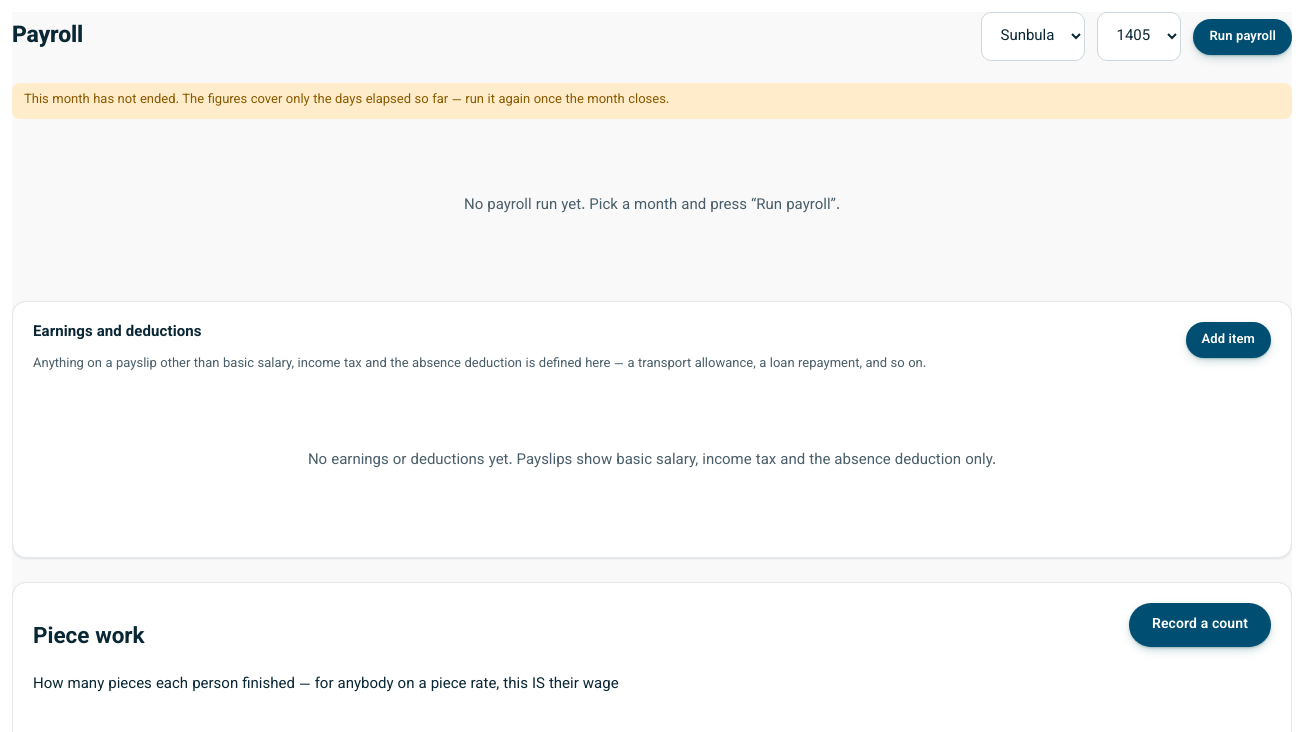
Test case: payroll runs › names the employees a run could not pay
Click the button "Run payroll": (1243, 36) x1=1194 y1=18 x2=1292 y2=54
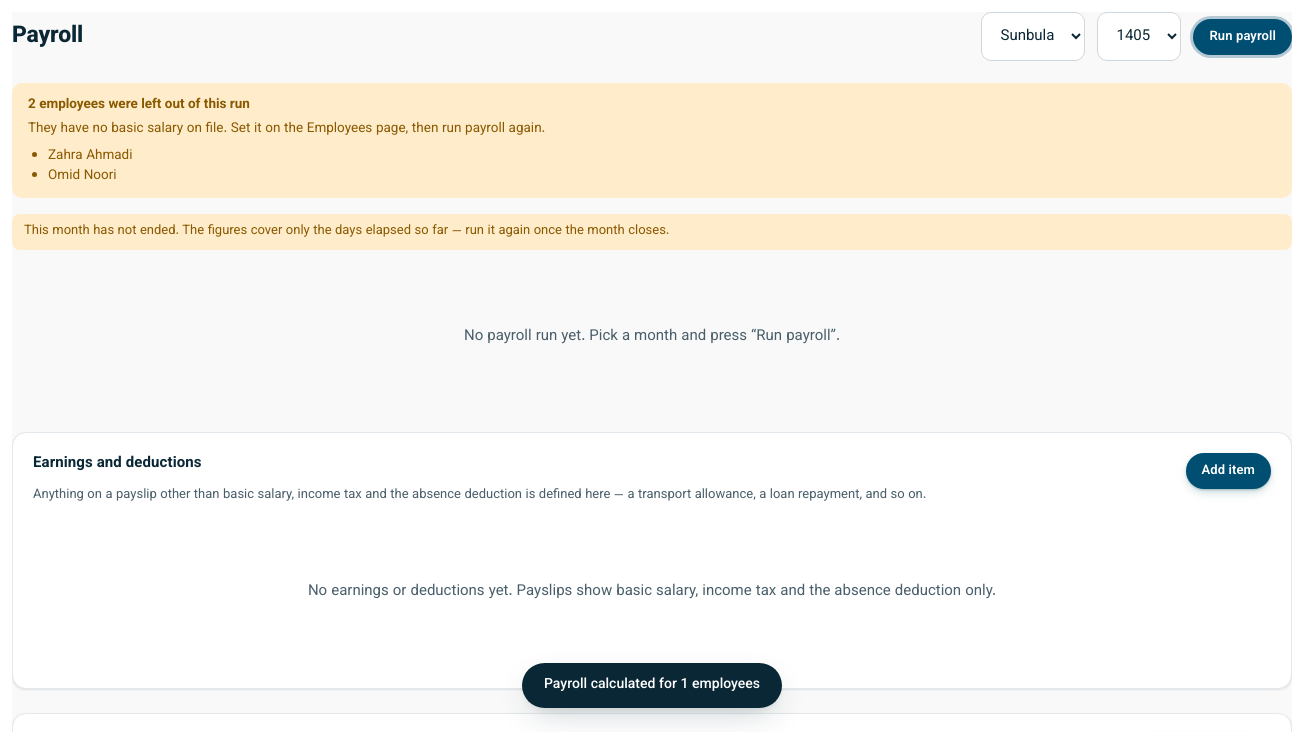
Check: the text "2 employees were left out of this run" is shown, box x1=28 y1=94 x2=250 y2=115
Check: the list item "Zahra Ahmadi" is shown, box x1=48 y1=144 x2=132 y2=166
Check: the list item "Omid Noori" is shown, box x1=48 y1=165 x2=116 y2=186
